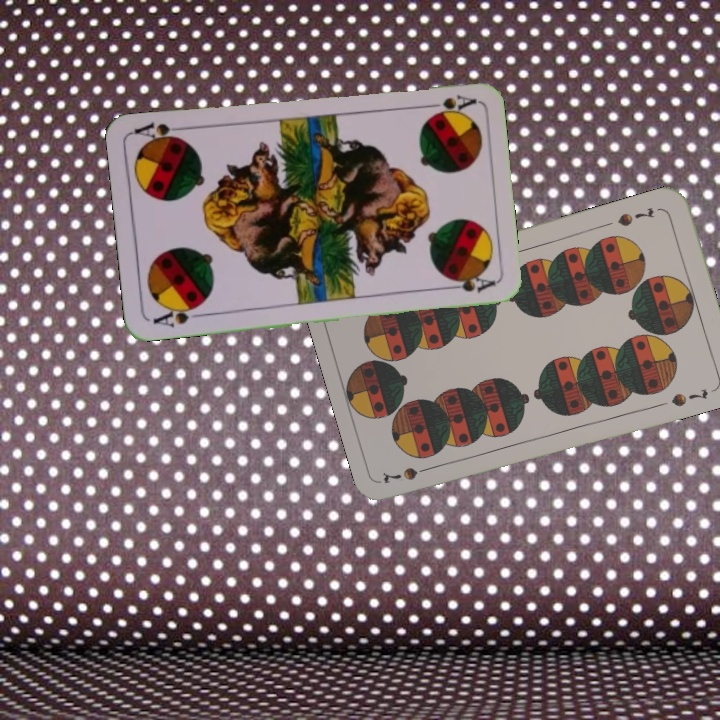S7: (379, 461, 437, 486), (614, 203, 657, 229)
SA: (149, 300, 208, 330), (419, 90, 478, 117)
